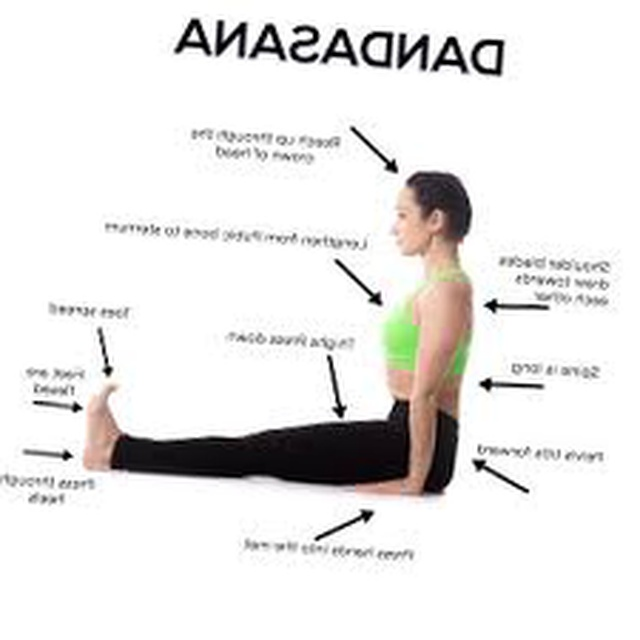Staff_Pose: (82, 169, 476, 498)
